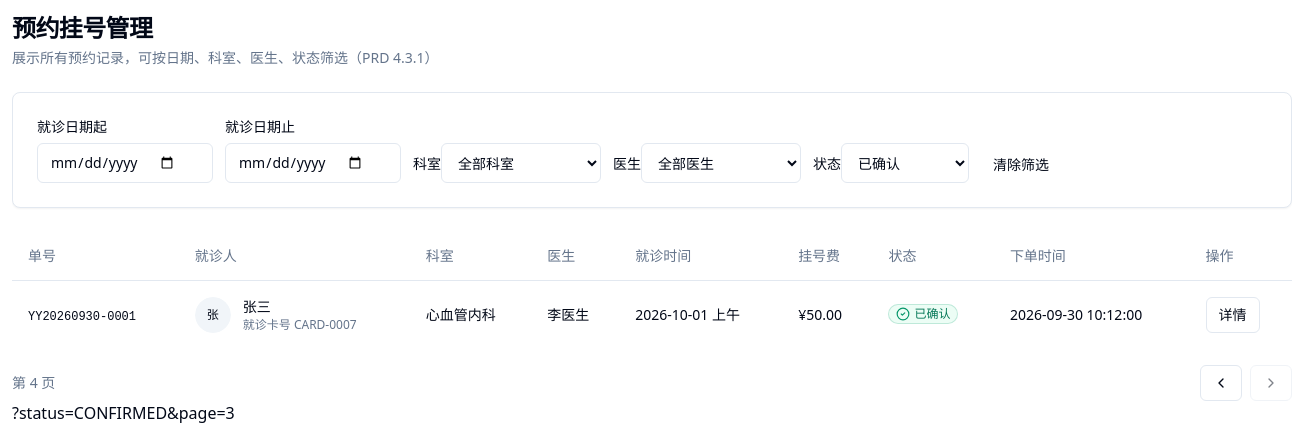
RegistrationListPage › 改筛选写回地址栏，同时回到第一页
Select "已取消" in the dropdown labelled "状态" at [905, 163], box [841, 143, 969, 183]
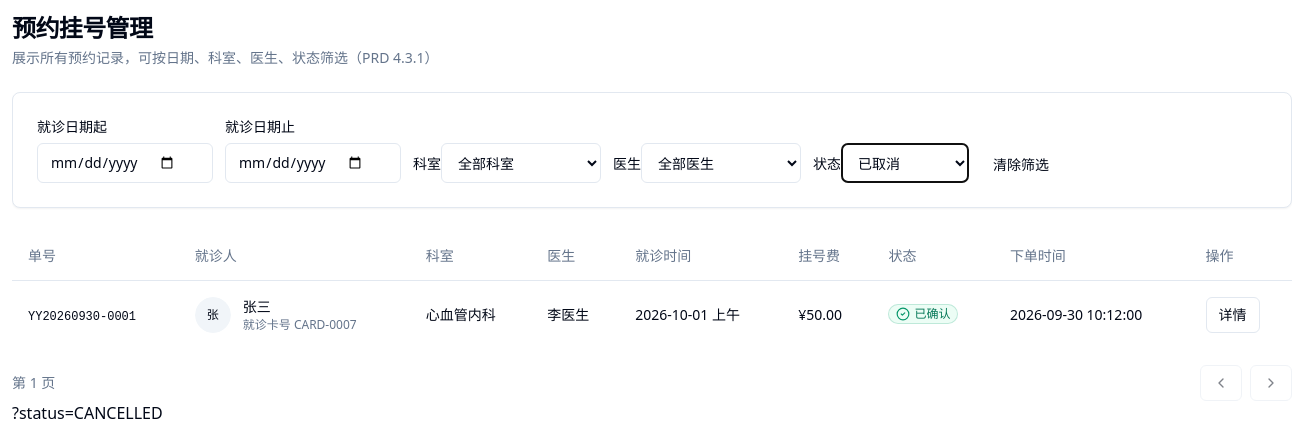
Now the text with test id "search" shows "status=CANCELLED", box [12, 402, 163, 424]
Now the text with test id "search" no longer shows "page=3", box [12, 402, 163, 424]
